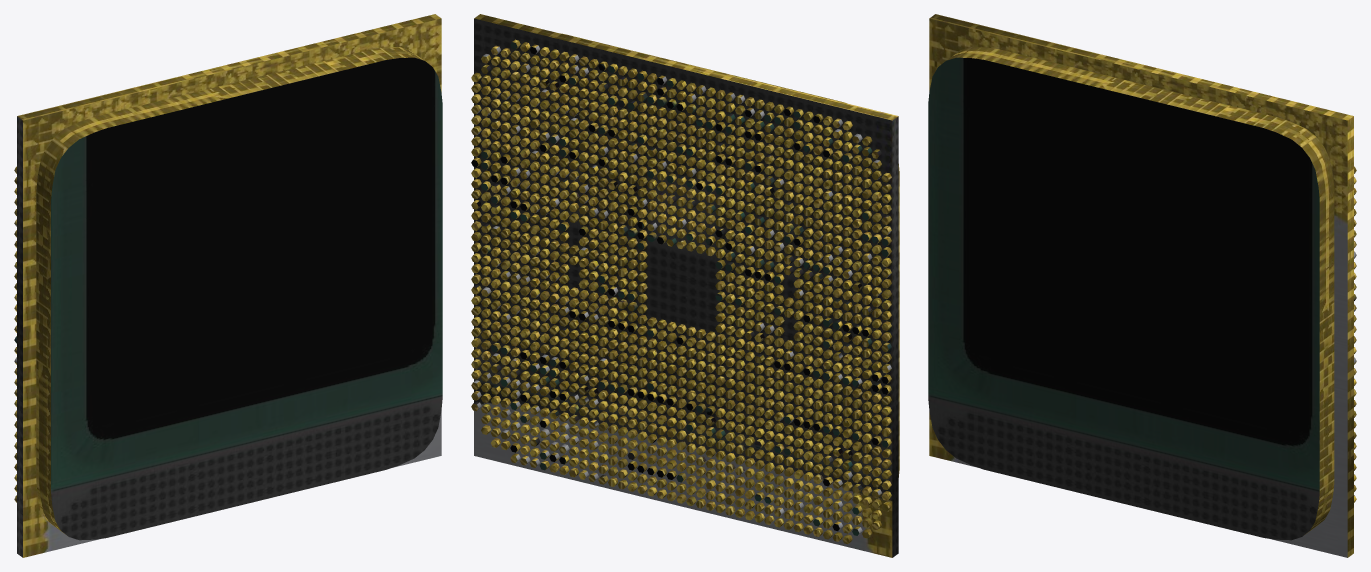
File: cpu.glb
3 renders of one model, left to right at view 1: azimuth 30°, elevation 25°; view 2: azimuth 150°, elevation 25°; view 3: azimuth 330°, elevation 25°, orthographic.
Parts seen in each view (by area): view 1: defaultMaterial; view 2: defaultMaterial; view 3: defaultMaterial.
Boxes of the visible parts, x1,y1,x2,y2 form: defaultMaterial: [14, 14, 442, 557]; defaultMaterial: [471, 14, 899, 557]; defaultMaterial: [928, 14, 1356, 557].
Size of the model in its own units: 0.6041 by 0.6034 by 0.0598.
Materials: 1 (1 with a texture image).
